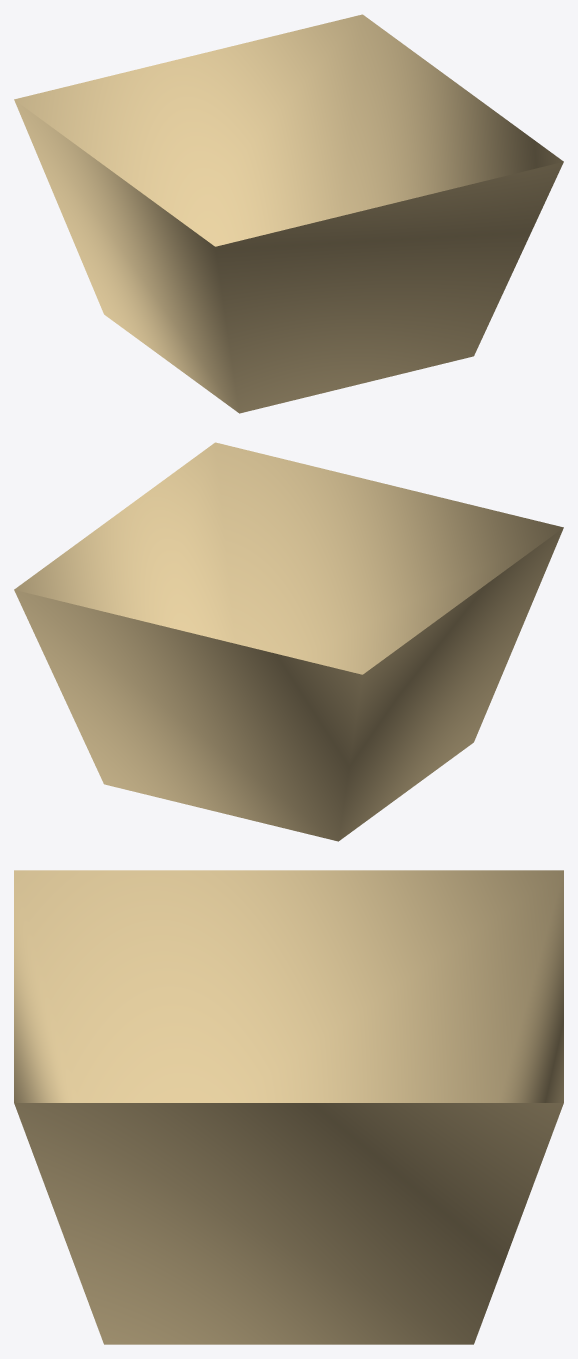
File: tree.gltf
3 views of the same model, one above another, from view 1: azimuth 30°, elevation 25°; view 2: azimuth 150°, elevation 25°; view 3: azimuth 270°, elevation 25° (orthographic). The views are drawn at different scales.
Parts seen in each view (by area): view 1: ground; view 2: ground; view 3: ground.
Boxes of the visible parts, x1,y1,x2,y2 form: ground: (14,14,563,413); ground: (14,442,563,841); ground: (14,870,563,1344).
Size of the model in its own units: 411 by 231 by 411.
